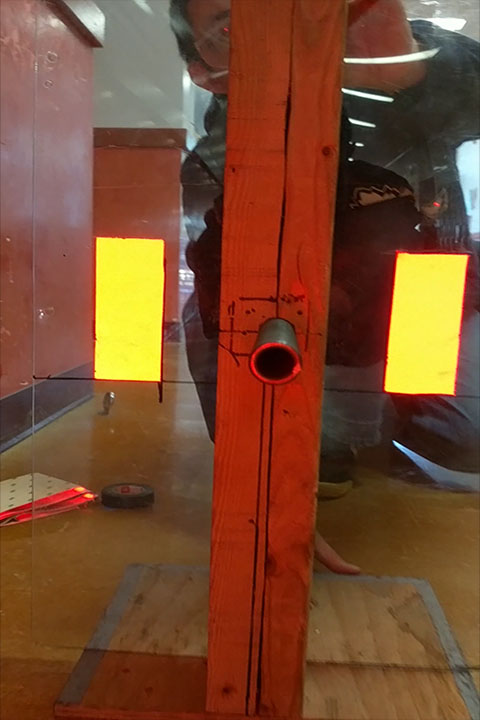gear: (383, 253, 469, 394), (95, 238, 163, 382)
